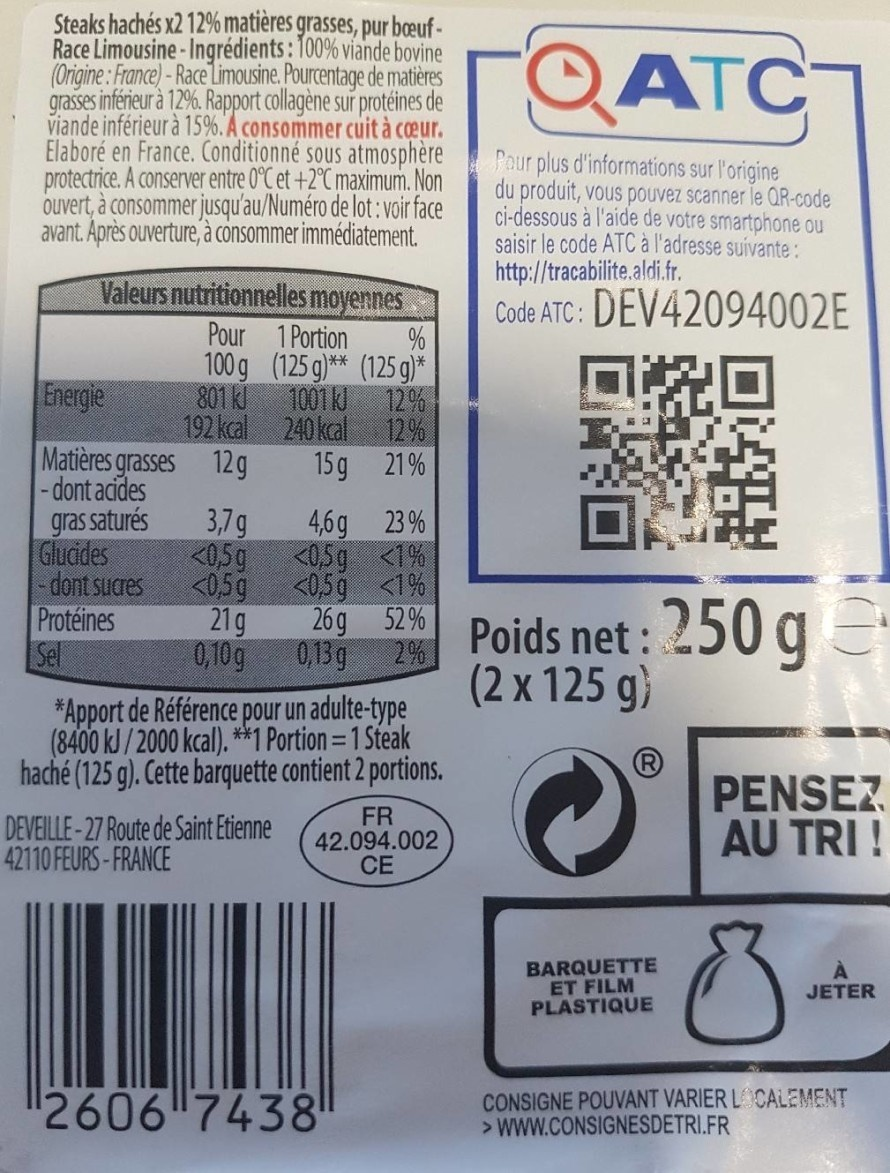column: (41, 309, 173, 692), (269, 312, 348, 692), (182, 312, 252, 693), (360, 314, 430, 693)
table: (25, 266, 439, 693)
